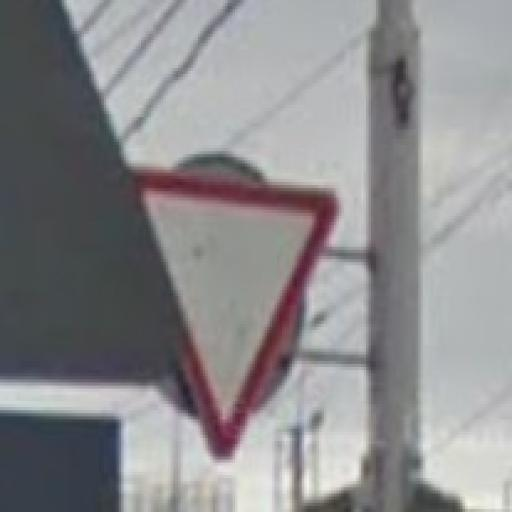traffic_sign: (123, 168, 343, 461)
